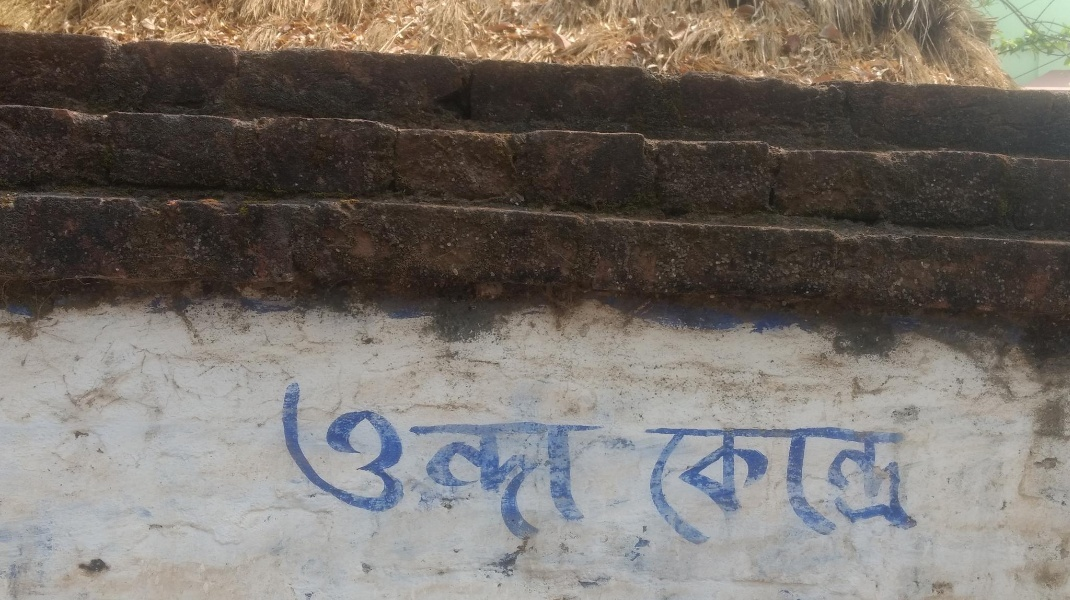text: (289, 376, 304, 541), (305, 376, 320, 541), (321, 376, 336, 541), (337, 376, 352, 541), (353, 376, 368, 541), (369, 376, 384, 541), (385, 376, 400, 541), (401, 376, 416, 541), (417, 376, 432, 541), (433, 376, 448, 541), (449, 376, 464, 541), (465, 376, 480, 541), (481, 376, 496, 541), (497, 376, 512, 541), (513, 376, 528, 541), (529, 376, 544, 541), (545, 376, 560, 541), (561, 376, 576, 541), (577, 376, 592, 541), (657, 422, 672, 545), (673, 422, 688, 545), (689, 422, 704, 545), (705, 422, 720, 545), (721, 422, 736, 545), (737, 422, 752, 545), (753, 422, 768, 545), (769, 422, 784, 545), (785, 422, 800, 545), (801, 422, 816, 545), (817, 422, 832, 545), (833, 422, 848, 545), (849, 422, 864, 545), (865, 422, 880, 545), (881, 422, 896, 545), (897, 422, 912, 545), (642, 422, 656, 545), (278, 376, 288, 541), (593, 376, 596, 541), (913, 422, 917, 545)
